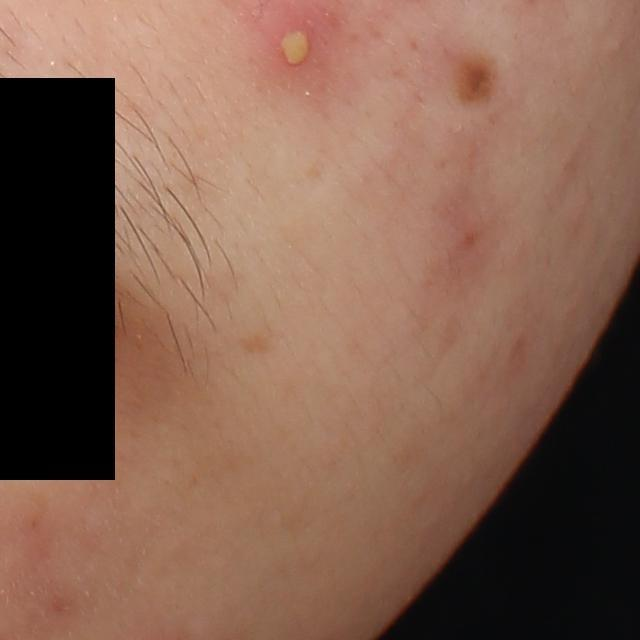nevus: (451, 57, 498, 108)
